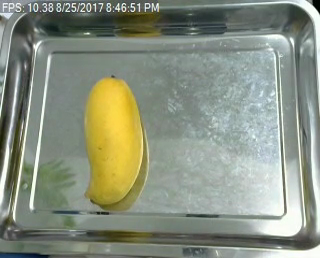Mango: (81, 75, 142, 208)
